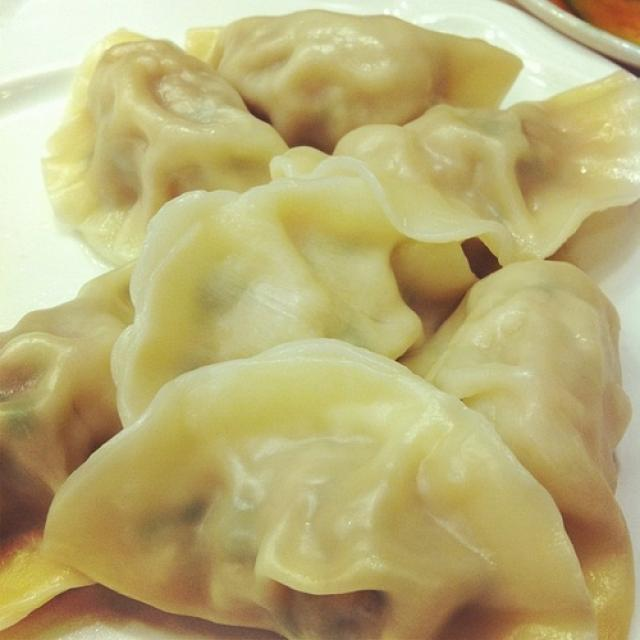带馅早点: (13, 15, 623, 631)
